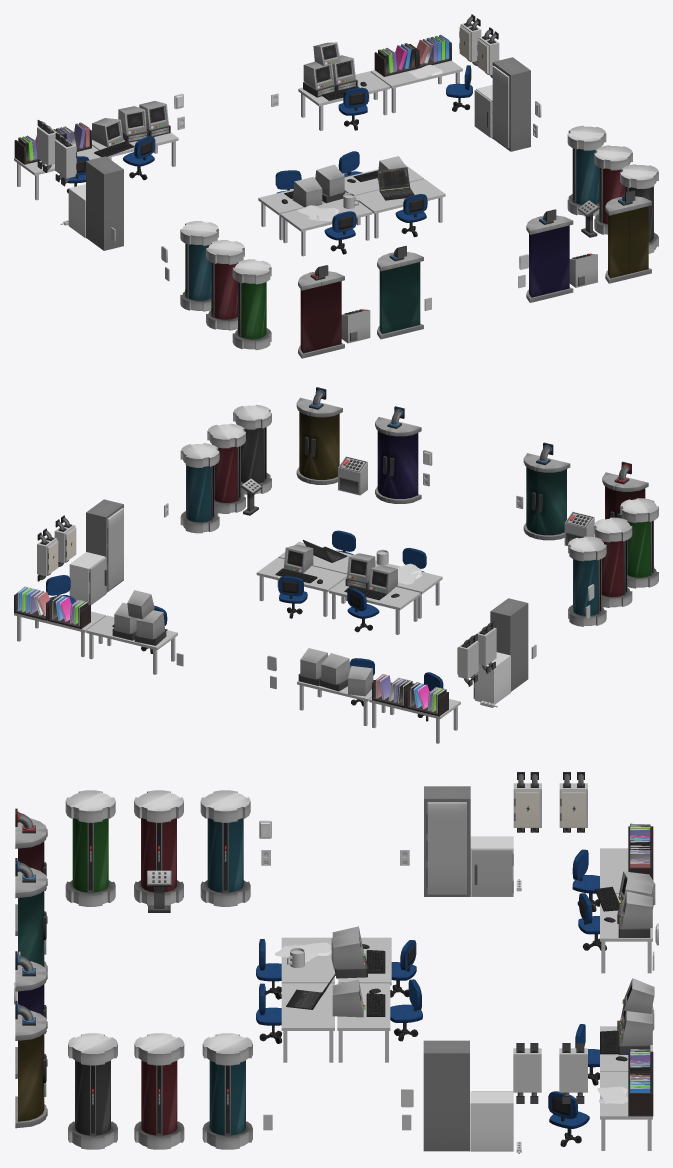
The model's file is Room04Set2.FBX.
The picture shows the model from 3 angles, top to bottom: view 1: azimuth 30°, elevation 25°; view 2: azimuth 150°, elevation 25°; view 3: azimuth 270°, elevation 25°; orthographic projection. The views are drawn at different scales.
Parts seen in each view (by area): view 1: chestbox047, object087, object086, object088, object091, chestbox0, object090, object077, object079, object072, object074, object075 (+33 smaller); view 2: object091, object088, object087, object090, object086, object074, chestbox047, object077, object072, object092, chestbox049, Box431 (+31 smaller); view 3: chestbox0, object088, object090, object091, object087, object092, object086, chestdoor001, object073, chestbox048, Box433, object078 (+32 smaller).
Boxes of the visible parts, box(x1,y1,x2,y2) form: chestbox047: box(86, 156, 123, 250); object087: box(232, 259, 271, 350); object086: box(206, 240, 244, 330); object088: box(180, 221, 218, 311); object091: box(567, 125, 606, 216); chestbox0: box(492, 57, 530, 151); object090: box(594, 145, 632, 234); object077: box(377, 252, 403, 339); object079: box(298, 272, 324, 358); object072: box(605, 197, 631, 283); object074: box(526, 216, 553, 302); object075: box(537, 215, 573, 298); object091: box(180, 443, 219, 533); object088: box(568, 536, 606, 626); object087: box(620, 498, 658, 588); object090: box(207, 423, 245, 513); object086: box(593, 517, 632, 607); object074: box(385, 422, 421, 503); chestbox047: box(490, 598, 528, 691); object077: box(534, 458, 570, 540); object072: box(307, 402, 342, 484); object092: box(233, 404, 271, 494); chestbox049: box(475, 652, 510, 704); Box431: box(256, 557, 347, 616); chestbox0: box(423, 1040, 469, 1151); object088: box(200, 790, 250, 906); object090: box(134, 1033, 184, 1149); object091: box(202, 1033, 252, 1149); object087: box(65, 790, 115, 906); object092: box(68, 1033, 117, 1149); object086: box(134, 790, 183, 905); chestdoor001: box(426, 802, 466, 894); object073: box(15, 1021, 47, 1128); chestbox048: box(470, 1091, 513, 1151); Box433: box(281, 983, 334, 1062); object078: box(15, 878, 47, 971).
Size of the model in its own units: 121 by 22.89 by 120.
